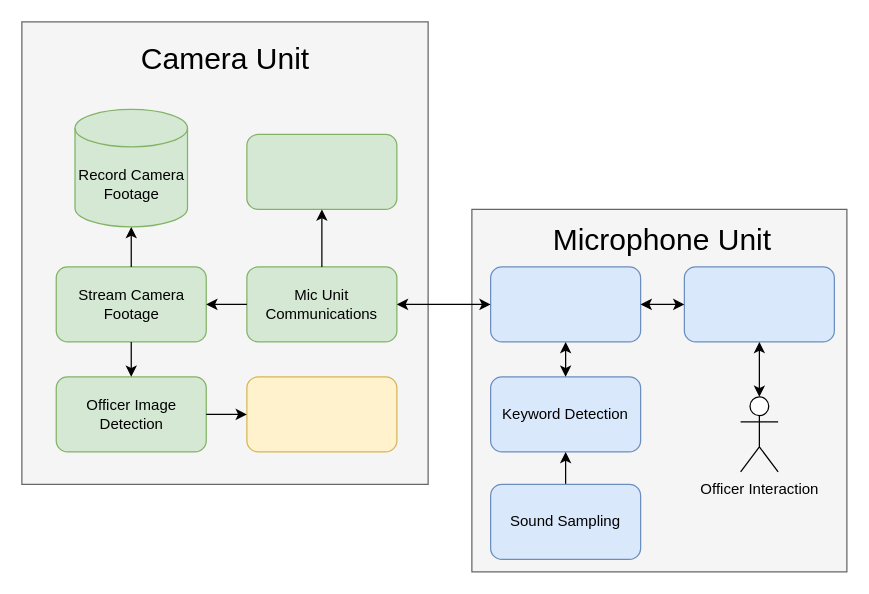
Image size: 869x594. Some labels were removed from this diagram. Here are the shapes that lost their labels. From the top down, the centre of each, then its label:
At point 321,171: "Keyword Endpoint".
At point 565,304: "Camera Unit Communications".
At point 758,304: "System Interface".
At point 321,414: "Motor Control".
